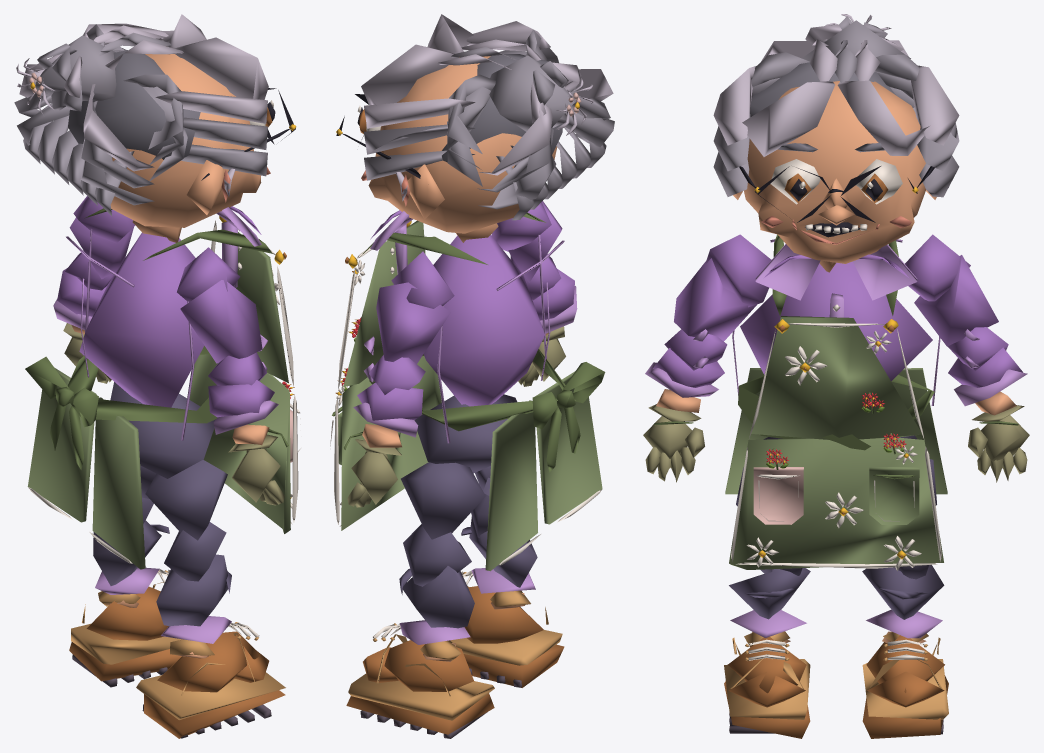
The picture shows the model from 3 angles, left to right: view 1: azimuth 30°, elevation 25°; view 2: azimuth 150°, elevation 25°; view 3: azimuth 270°, elevation 25°; orthographic projection.
Parts seen in each view (by area): view 1: head, hip, torso, footR, footL, shinR, armR, foreArmR, legR, armL, shinL, foreArmL (+2 smaller); view 2: head, hip, torso, footL, footR, shinL, armL, foreArmL, legL, shinR, armR, foreArmR (+2 smaller); view 3: head, hip, torso, footL, footR, armR, armL, foreArmL, foreArmR, shinL, shinR, handR (+1 smaller).
Part boxes in pixels (<box>): head: <box>14,14,296,242</box>; hip: <box>25,346,300,569</box>; torso: <box>66,206,293,440</box>; footR: <box>136,622,285,738</box>; footL: <box>69,569,182,687</box>; shinR: <box>156,522,231,643</box>; armR: <box>177,247,267,363</box>; foreArmR: <box>208,352,278,445</box>; legR: <box>145,459,227,540</box>; armL: <box>69,196,135,279</box>; shinL: <box>93,497,169,594</box>; foreArmL: <box>53,250,113,334</box>; head: <box>336,14,614,242</box>; hip: <box>330,349,605,571</box>; torso: <box>338,210,564,443</box>; footL: <box>346,623,494,738</box>; footR: <box>451,571,564,687</box>; shinL: <box>399,524,474,644</box>; armL: <box>364,251,454,363</box>; foreArmL: <box>353,355,425,447</box>; legL: <box>401,462,485,539</box>; shinR: <box>461,494,537,593</box>; armR: <box>491,201,562,282</box>; foreArmR: <box>510,254,577,335</box>; head: <box>713,14,959,272</box>; hip: <box>725,368,947,570</box>; torso: <box>732,234,940,439</box>; footL: <box>862,631,948,738</box>; footR: <box>724,631,810,738</box>; armR: <box>674,234,771,341</box>; armL: <box>905,234,998,346</box>; foreArmL: <box>947,327,1027,415</box>; foreArmR: <box>645,329,727,412</box>; shinL: <box>862,565,944,638</box>; shinR: <box>729,568,810,637</box>; handR: <box>643,404,704,482</box>.
Bounding box in the file's own units: 0.6338 × 1.8 × 0.9636.
